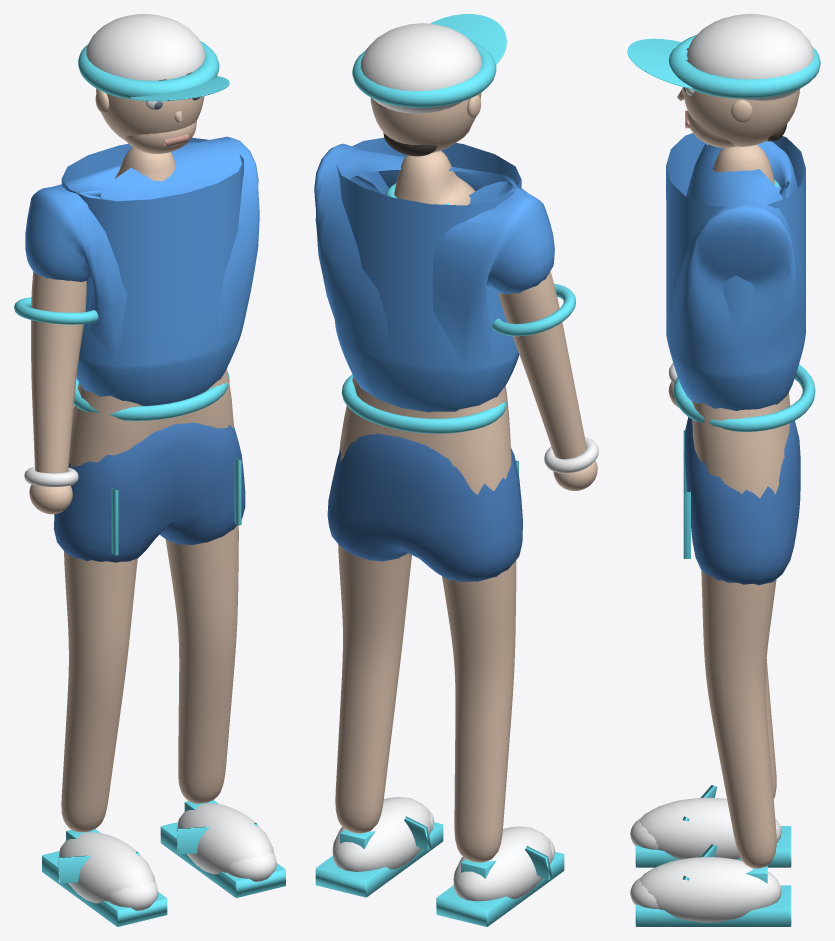
Rendered from aura-tennis-male.glb.
3 views of the same model, side by side, from view 1: azimuth 30°, elevation 25°; view 2: azimuth 150°, elevation 25°; view 3: azimuth 270°, elevation 25° (orthographic). The views are drawn at different scales.
Visible parts, largest first — view 1: Male_shirtmesh, Male_body, Male_shorts, Sphere.009, Sphere.014, Sphere.012, Sphere, Torus.003, Torus.002, Cube.008, Cube.005, Torus (+8 smaller); view 2: Male_body, Male_shirtmesh, Male_shorts, Sphere.009, Sphere.014, Sphere.012, Sphere, Torus.003, Torus.002, Cube.008, Cube.005, Cylinder (+3 smaller); view 3: Male_shirtmesh, Male_body, Male_shorts, Sphere.012, Sphere.009, Sphere.014, Sphere, Torus.003, Torus.002, Cube.005, Cylinder, Cube.008 (+4 smaller).
Part boxes in pixels (x1=…): Male_shirtmesh: x1=25, y1=136, x2=259, y2=405; Male_body: x1=31, y1=147, x2=238, y2=832; Male_shorts: x1=53, y1=422, x2=245, y2=562; Sphere.009: x1=86, y1=14, x2=204, y2=80; Sphere.014: x1=59, y1=832, x2=155, y2=903; Sphere.012: x1=177, y1=803, x2=273, y2=874; Sphere: x1=96, y1=88, x2=204, y2=140; Torus.003: x1=78, y1=41, x2=219, y2=100; Torus.002: x1=74, y1=372, x2=229, y2=420; Cube.008: x1=42, y1=851, x2=167, y2=926; Cube.005: x1=160, y1=822, x2=285, y2=897; Torus: x1=14, y1=297, x2=98, y2=324; Male_body: x1=335, y1=150, x2=586, y2=862; Male_shirtmesh: x1=314, y1=137, x2=554, y2=412; Male_shorts: x1=327, y1=433, x2=522, y2=581; Sphere.009: x1=360, y1=23, x2=481, y2=113; Sphere.014: x1=453, y1=826, x2=552, y2=901; Sphere.012: x1=332, y1=797, x2=431, y2=871; Sphere: x1=370, y1=93, x2=481, y2=152; Torus.003: x1=352, y1=40, x2=496, y2=107; Torus.002: x1=341, y1=374, x2=506, y2=433; Cube.008: x1=436, y1=851, x2=564, y2=926; Cube.005: x1=315, y1=822, x2=443, y2=897; Cylinder: x1=430, y1=14, x2=506, y2=64; Male_shirtmesh: x1=666, y1=133, x2=805, y2=410; Male_body: x1=692, y1=144, x2=790, y2=868; Male_shorts: x1=684, y1=417, x2=800, y2=585; Sphere.012: x1=639, y1=857, x2=781, y2=922; Sphere.009: x1=686, y1=14, x2=814, y2=100; Sphere.014: x1=639, y1=797, x2=781, y2=859; Sphere: x1=682, y1=87, x2=799, y2=146; Torus.003: x1=669, y1=35, x2=820, y2=98; Torus.002: x1=673, y1=364, x2=815, y2=431; Cube.005: x1=635, y1=885, x2=791, y2=926; Cylinder: x1=627, y1=38, x2=693, y2=89; Cube.008: x1=635, y1=826, x2=791, y2=867.
Size of the model in its own units: 0.5459 by 1.85 by 0.3733.
